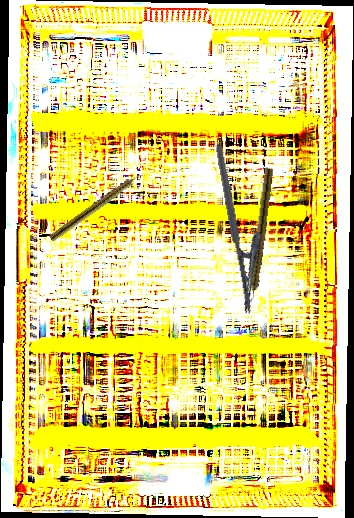Handpiece: (48, 170, 146, 244), (245, 166, 274, 307)
Needle Holder: (214, 139, 275, 316)
